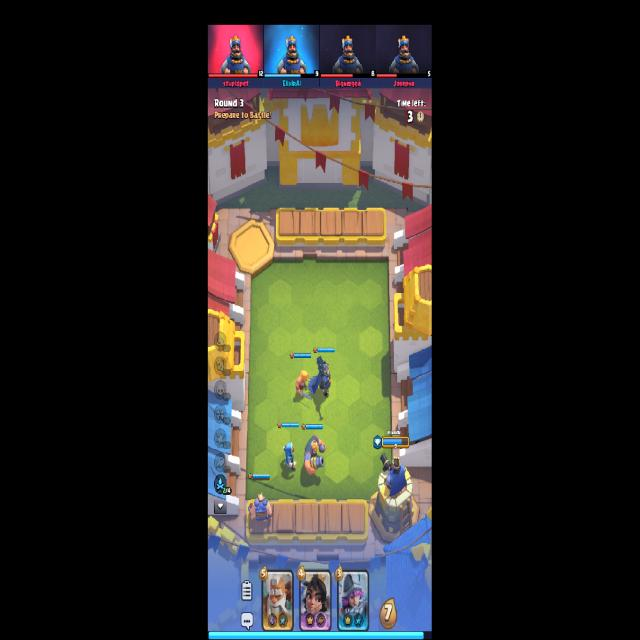barbarian: (296, 371, 312, 404)
card_monk: (261, 570, 294, 632)
card_musketeer: (336, 568, 369, 632)
card_princess: (298, 568, 332, 632)
electro_giant: (248, 493, 273, 523)
royal_giant: (304, 435, 326, 477)
skeleton_king: (312, 356, 332, 400)
wizard: (283, 442, 298, 474)
